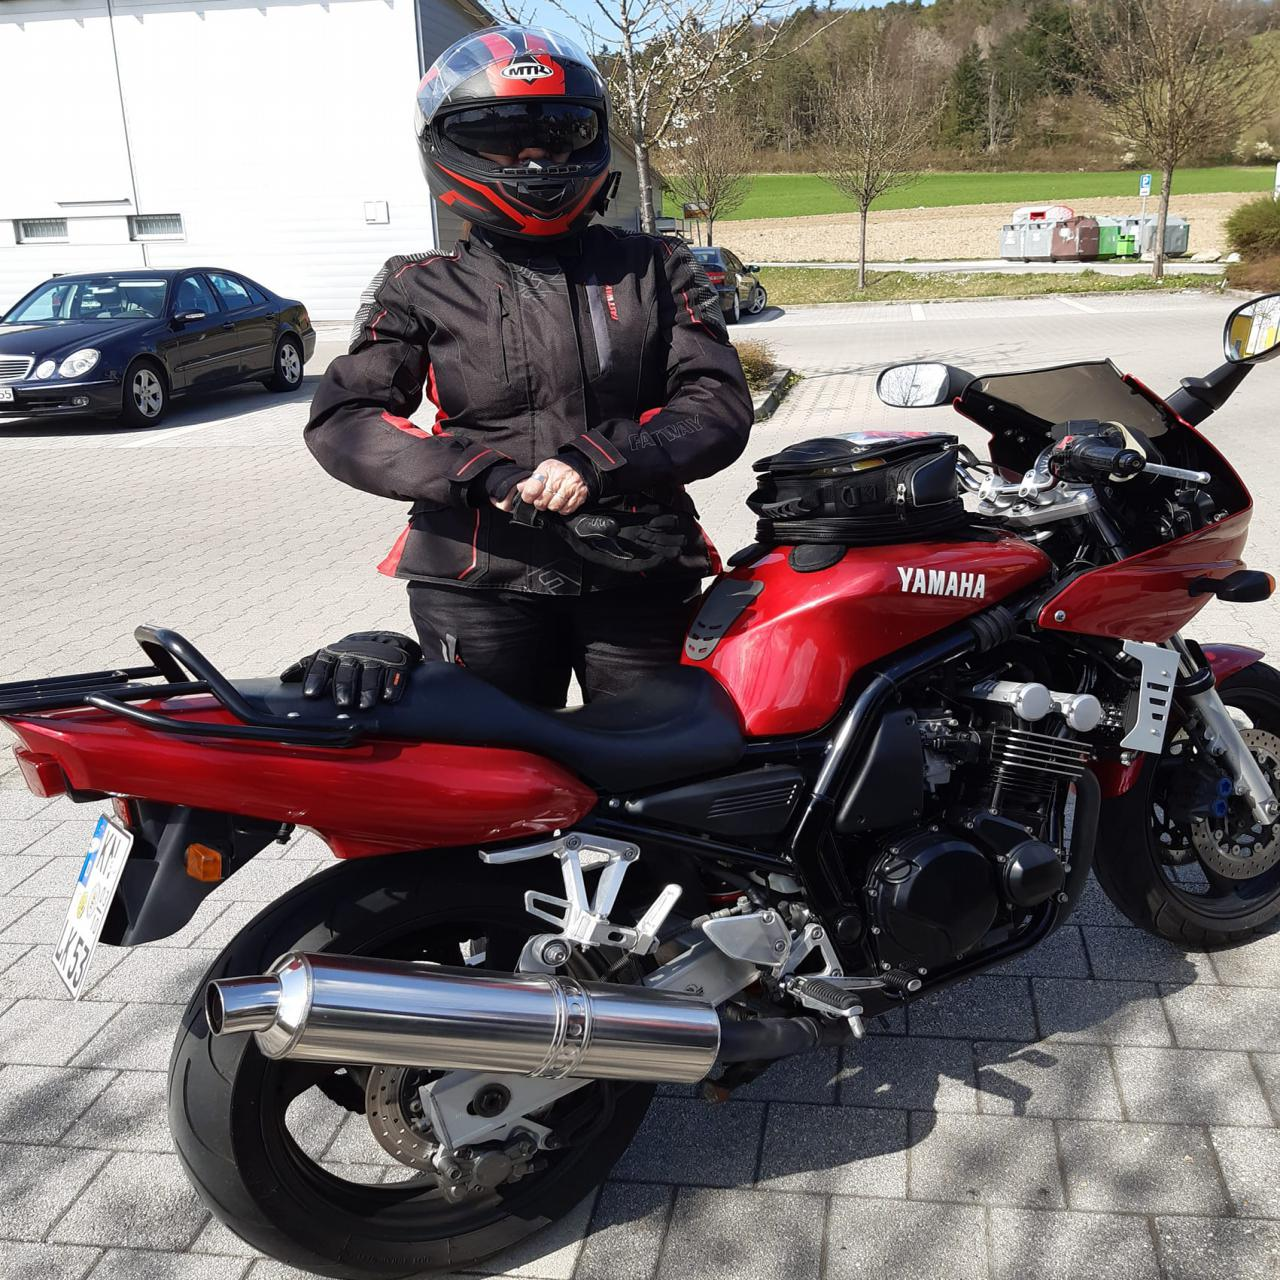MB: (0, 297, 1279, 1279)
